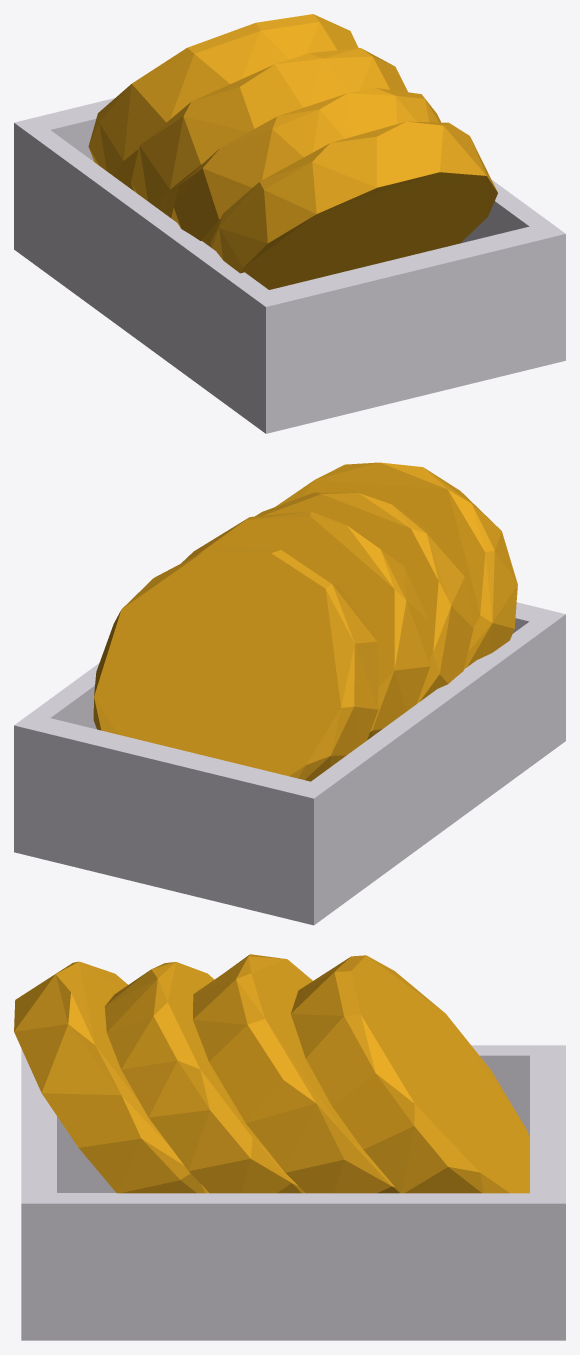
The model's file is E_BreadBottomGenerator.fbx.
3 renders of one model, top to bottom at view 1: azimuth 30°, elevation 25°; view 2: azimuth 150°, elevation 25°; view 3: azimuth 270°, elevation 25°, orthographic. The views are drawn at different scales.
Parts seen in each view (by area): view 1: Cube, Cylinder; view 2: Cylinder, Cube; view 3: Cylinder, Cube.
Part boxes in pixels (box(x1,y1,x2,y2)): Cube: box(14, 98, 565, 433); Cylinder: box(88, 14, 497, 289); Cylinder: box(93, 462, 517, 781); Cube: box(14, 602, 565, 925); Cylinder: box(14, 954, 529, 1193); Cube: box(21, 1045, 565, 1340).
Size of the model in its own units: 19.8 by 16.8 by 29.18.
